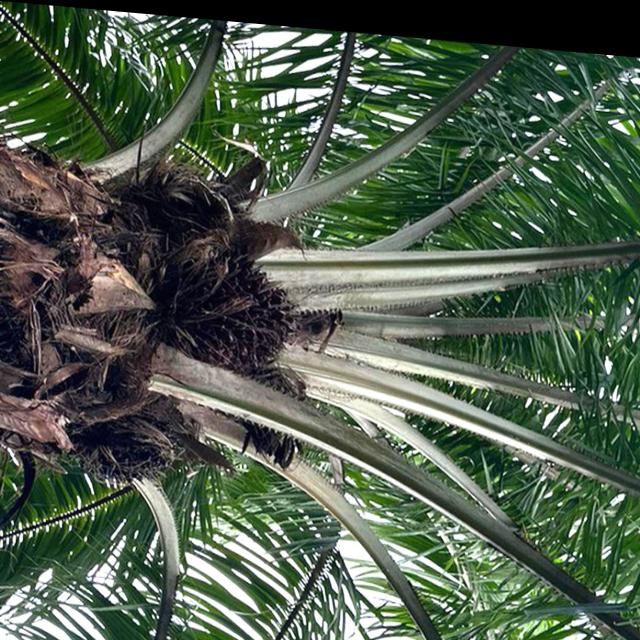almost: (166, 247, 299, 372)
